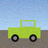vehicle: (8, 20, 40, 42)
